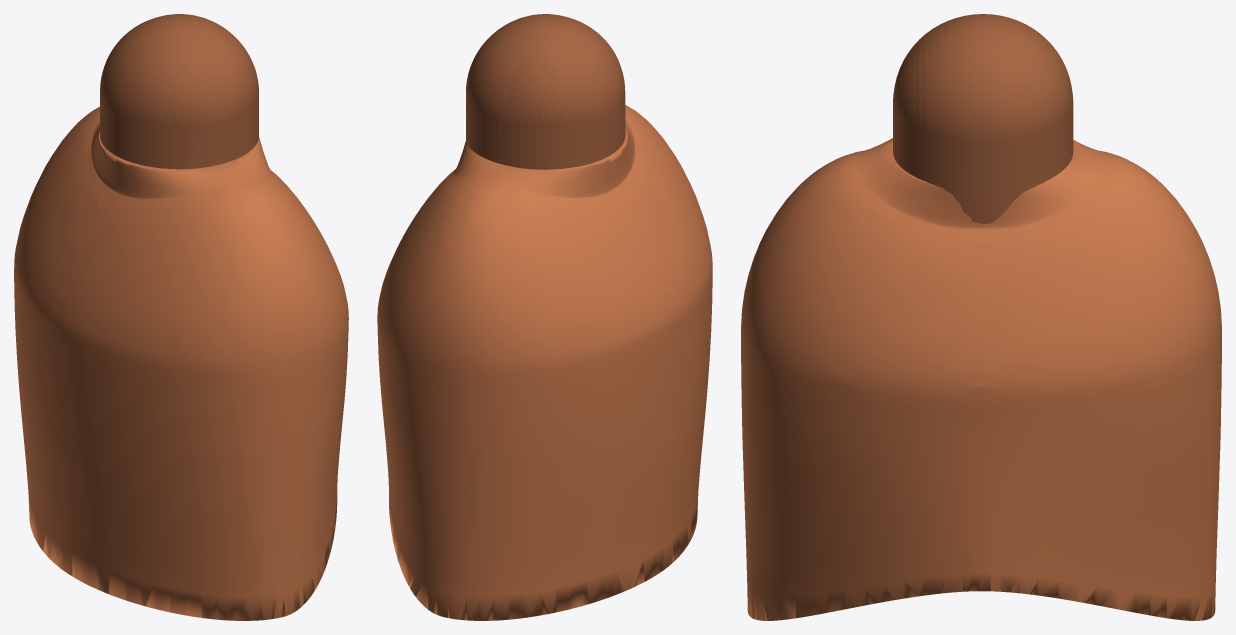
File: thorax.dae
The picture shows the model from 3 angles, left to right: view 1: azimuth 30°, elevation 25°; view 2: azimuth 150°, elevation 25°; view 3: azimuth 270°, elevation 25°; orthographic projection. The views are drawn at different scales.
Parts seen in each view (by area): view 1: polySurface1, polySurface2; view 2: polySurface1, polySurface2; view 3: polySurface1, polySurface2.
Part boxes in pixels (x1,y1,x2,y2): polySurface1: [14, 106, 348, 620]; polySurface2: [100, 14, 258, 169]; polySurface1: [377, 105, 712, 620]; polySurface2: [466, 14, 625, 169]; polySurface1: [741, 138, 1221, 620]; polySurface2: [893, 14, 1073, 224].
Bounding box in the file's own units: 0.1766 × 0.335 × 0.2481.
